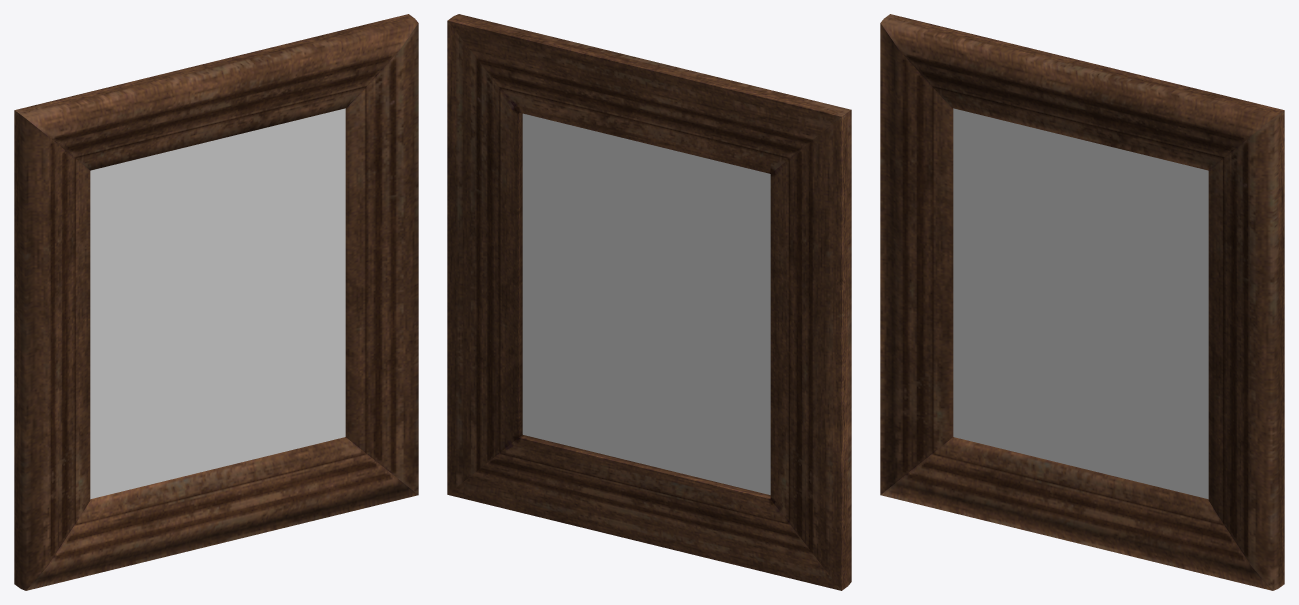
File: Mirror_Medium_Framed.FBX
3 renders of one model, left to right at view 1: azimuth 30°, elevation 25°; view 2: azimuth 150°, elevation 25°; view 3: azimuth 330°, elevation 25°, orthographic.
Parts seen in each view (by area): view 1: Mirror_Medium_Framed; view 2: Mirror_Medium_Framed; view 3: Mirror_Medium_Framed.
Boxes of the visible parts, x1,y1,x2,y2 form: Mirror_Medium_Framed: (14, 14, 418, 590); Mirror_Medium_Framed: (447, 14, 851, 590); Mirror_Medium_Framed: (880, 14, 1284, 590).
Bounding box in the file's own units: 59.2 × 68.03 × 3.18.
